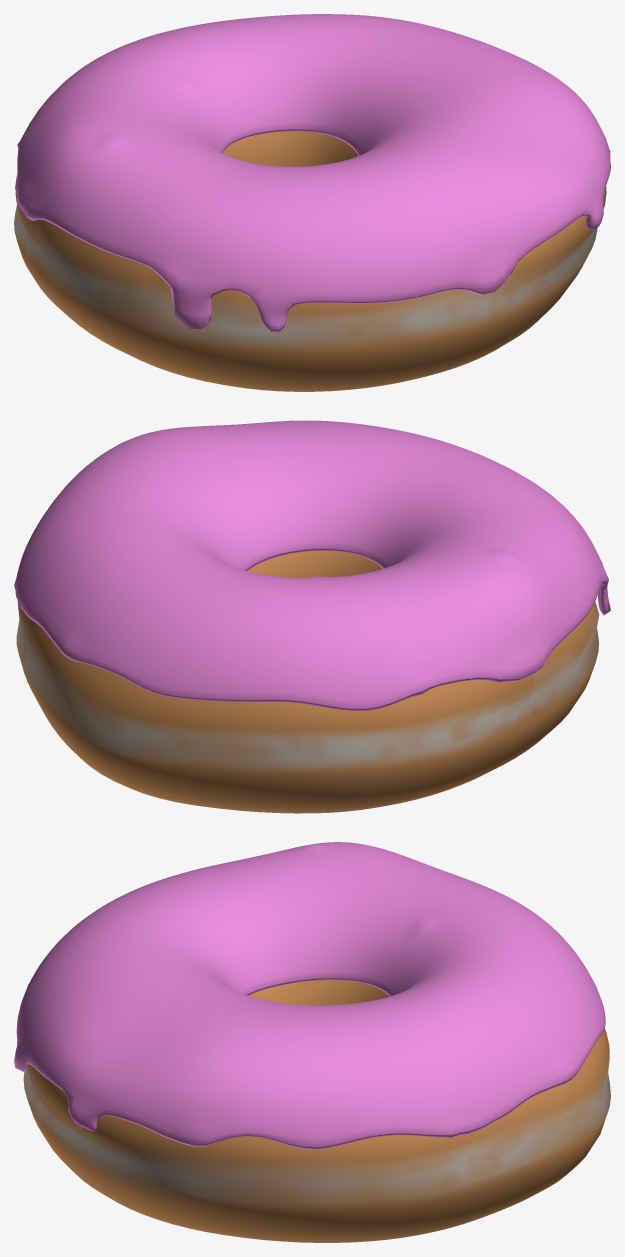
The model's file is BlenderDonut.glb.
3 renders of one model, top to bottom at view 1: azimuth 30°, elevation 25°; view 2: azimuth 150°, elevation 25°; view 3: azimuth 270°, elevation 25°, orthographic.
Parts seen in each view (by area): view 1: icing, donut; view 2: icing, donut; view 3: icing, donut.
Part boxes in pixels (x1,y1,x2,y2): icing: (15,14,610,332); donut: (14,131,606,391); icing: (14,420,610,711); donut: (16,551,599,813); icing: (14,842,605,1149); donut: (23,980,610,1242).
Bounding box in the file's own units: 0.1222 × 0.0495 × 0.122.
Materials: 2 (1 with a texture image).
